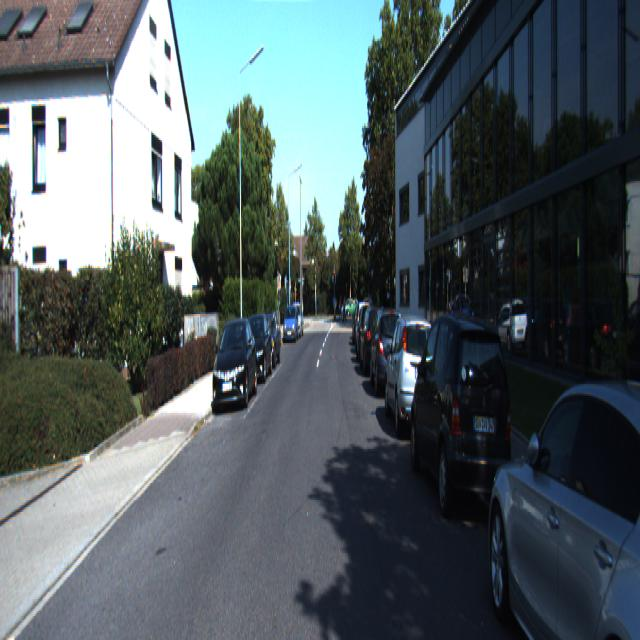Car: (486, 350, 640, 638), (409, 304, 516, 526), (384, 310, 443, 441), (211, 316, 258, 414), (370, 304, 409, 399), (238, 312, 273, 386), (359, 302, 390, 379), (253, 310, 282, 368), (283, 304, 299, 343)
